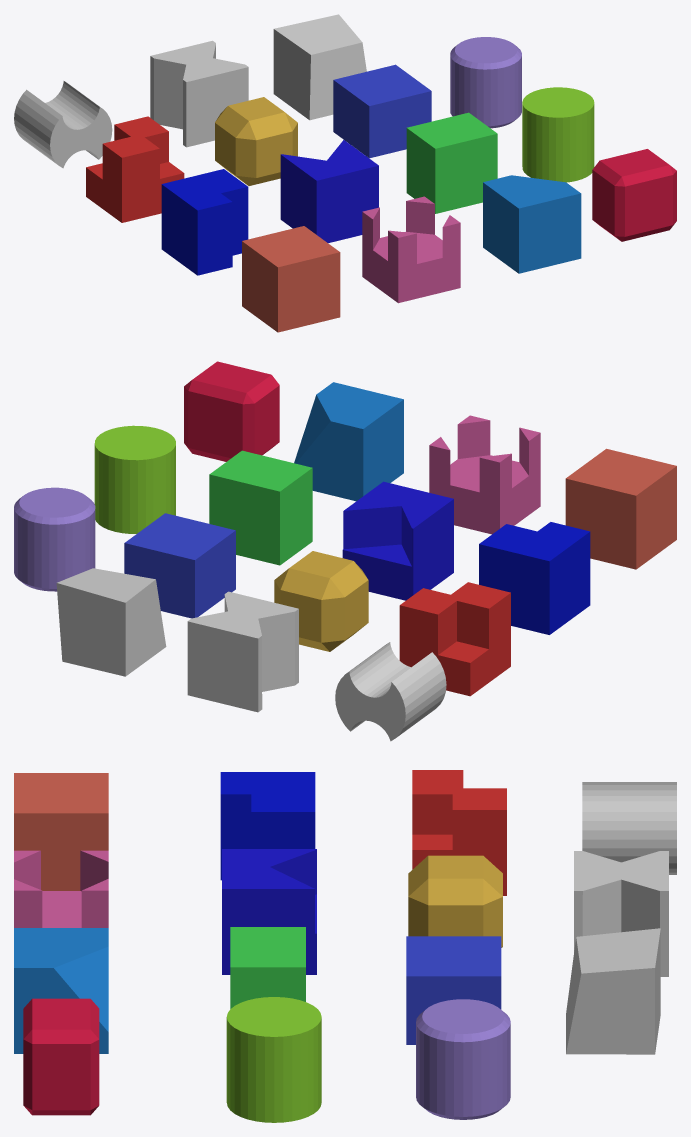
The model's file is set_obj2_block.obj.
The picture shows the model from 3 angles, top to bottom: view 1: azimuth 30°, elevation 25°; view 2: azimuth 150°, elevation 25°; view 3: azimuth 270°, elevation 25°; orthographic projection. The views are drawn at different scales.
Visible parts, largest first — view 1: Cube, Cube.007, Cube.004, Cube.001, Cube.005, Cube.008, Cube.002, Cube.010, Cube.009, Cube.003, Cube_Cube.001, 柱体 (+3 smaller); view 2: Cube.002, Cube, Cube.005, Cube.007, Cube.001, Cube.003, Cube.010, Cube.008, Cube.004, Cube.009, Cube_Cube.001, 柱体 (+3 smaller); view 3: 柱体, Cube.010, 柱体.001, Cube, Cube_Cube.001, Cube.005, Cube.007, Cube.003, Cube.002, Cube.001, Cube.006, 柱体.002 (+3 smaller).
Part boxes in pixels (<box>): Cube: <box>242,226,340,332</box>; Cube.007: <box>483,175,581,273</box>; Cube.004: <box>362,196,460,303</box>; Cube.001: <box>161,169,248,275</box>; Cube.005: <box>280,140,378,243</box>; Cube.008: <box>406,112,497,213</box>; Cube.002: <box>150,40,248,147</box>; Cube.010: <box>273,14,366,120</box>; Cube.009: <box>333,64,431,158</box>; Cube.003: <box>86,116,184,222</box>; Cube_Cube.001: <box>592,149,676,241</box>; 柱体: <box>522,87,594,182</box>; Cube.002: <box>187,591,298,712</box>; Cube: <box>565,448,676,569</box>; Cube.005: <box>342,481,453,600</box>; Cube.007: <box>294,382,403,501</box>; Cube.001: <box>479,522,590,634</box>; Cube.003: <box>399,582,510,696</box>; Cube.010: <box>56,568,166,676</box>; Cube.008: <box>209,450,312,565</box>; Cube.004: <box>429,415,540,534</box>; Cube.009: <box>124,513,235,618</box>; Cube_Cube.001: <box>184,361,279,461</box>; 柱体: <box>94,425,175,533</box>; 柱体: <box>226,997,321,1122</box>; Cube.010: <box>566,928,660,1054</box>; 柱体.001: <box>416,999,510,1119</box>; Cube: <box>14,773,108,890</box>; Cube_Cube.001: <box>23,998,99,1115</box>; Cube.005: <box>222,849,316,974</box>; Cube.007: <box>14,928,108,1053</box>; Cube.003: <box>412,770,506,895</box>; Cube.002: <box>574,851,668,976</box>; Cube.001: <box>220,772,315,880</box>; Cube.006: <box>408,855,502,947</box>; 柱体.002: <box>582,782,676,874</box>.
Size of what is drawn, in the model's own units: 13.56 by 2.09 by 13.98.
